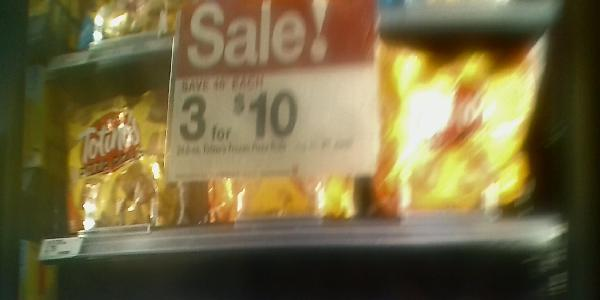icecream: (373, 41, 552, 229), (183, 86, 373, 235), (57, 96, 174, 244)
